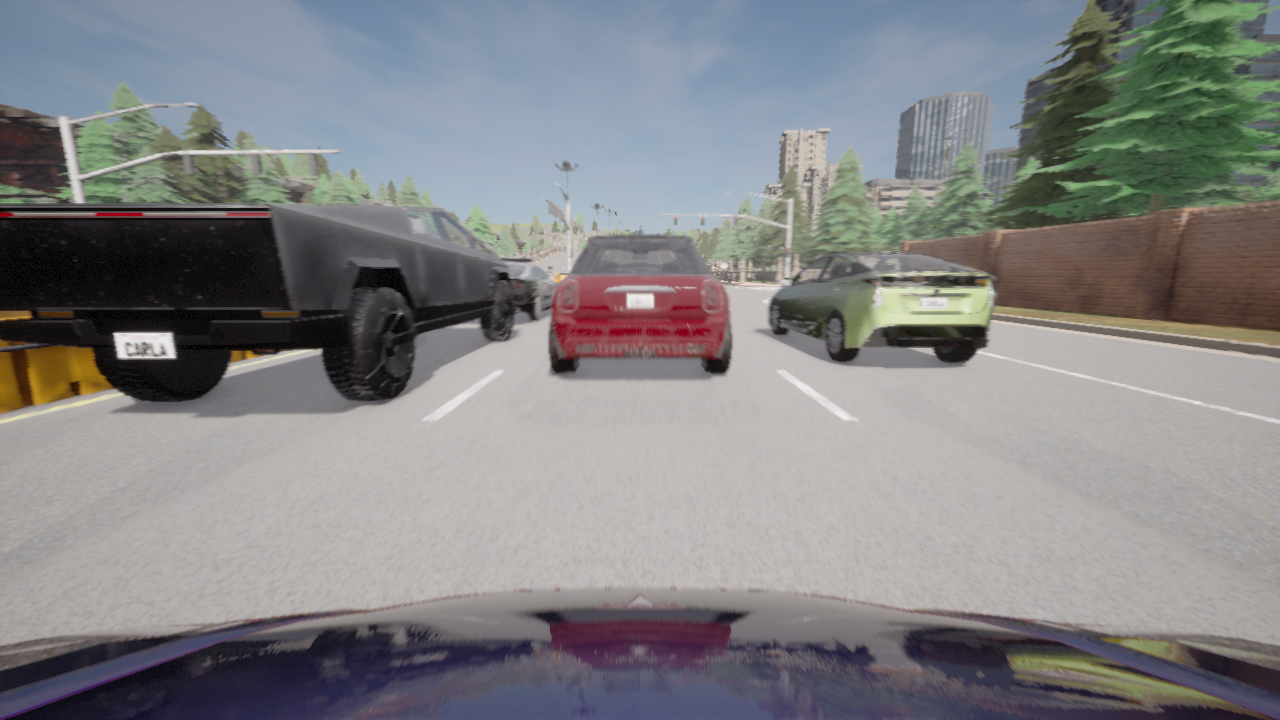cyclist: (0, 588, 1279, 719), (549, 228, 730, 373), (768, 252, 994, 362), (468, 257, 557, 321)
